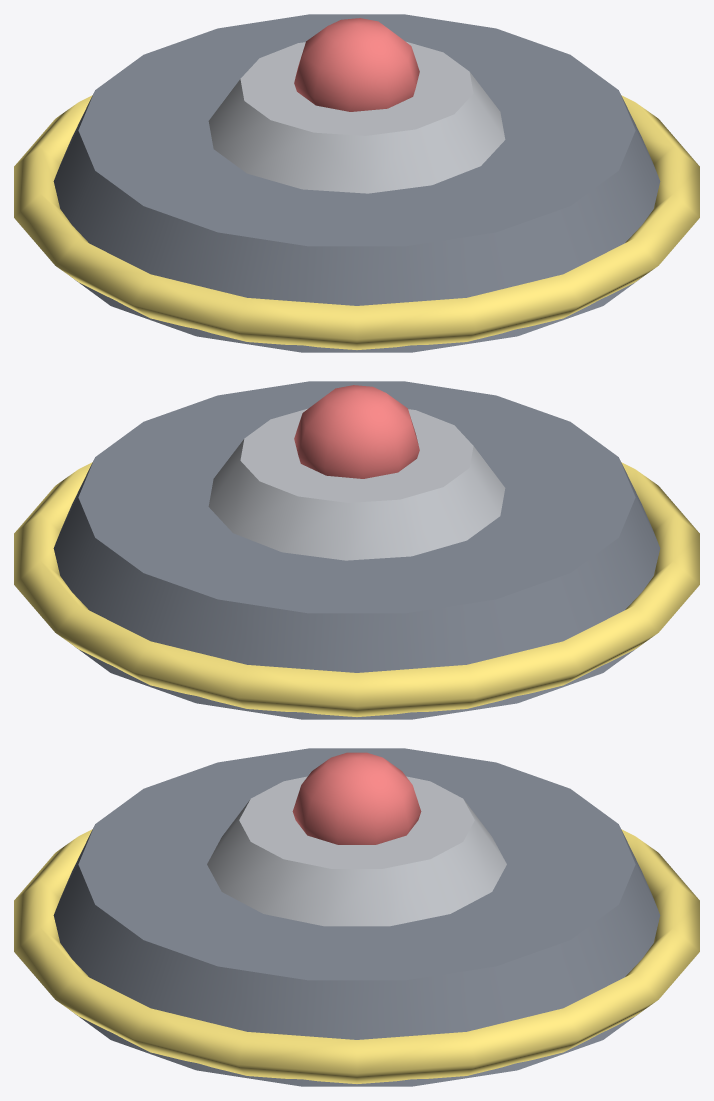
The model's file is Mine.fbx.
3 views of the same model, one above another, from view 1: azimuth 30°, elevation 25°; view 2: azimuth 150°, elevation 25°; view 3: azimuth 270°, elevation 25° (orthographic).
Parts seen in each view (by area): view 1: Mine; view 2: Mine; view 3: Mine.
Part boxes in pixels (box(x1,y1,x2,y2)): Mine: box(14, 14, 699, 352); Mine: box(14, 381, 699, 719); Mine: box(14, 748, 699, 1086).
Bounding box in the file's own units: 2.14 × 0.66 × 2.11.
